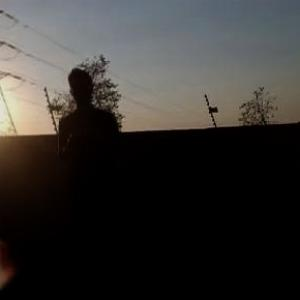follow: (57, 64, 140, 291)
